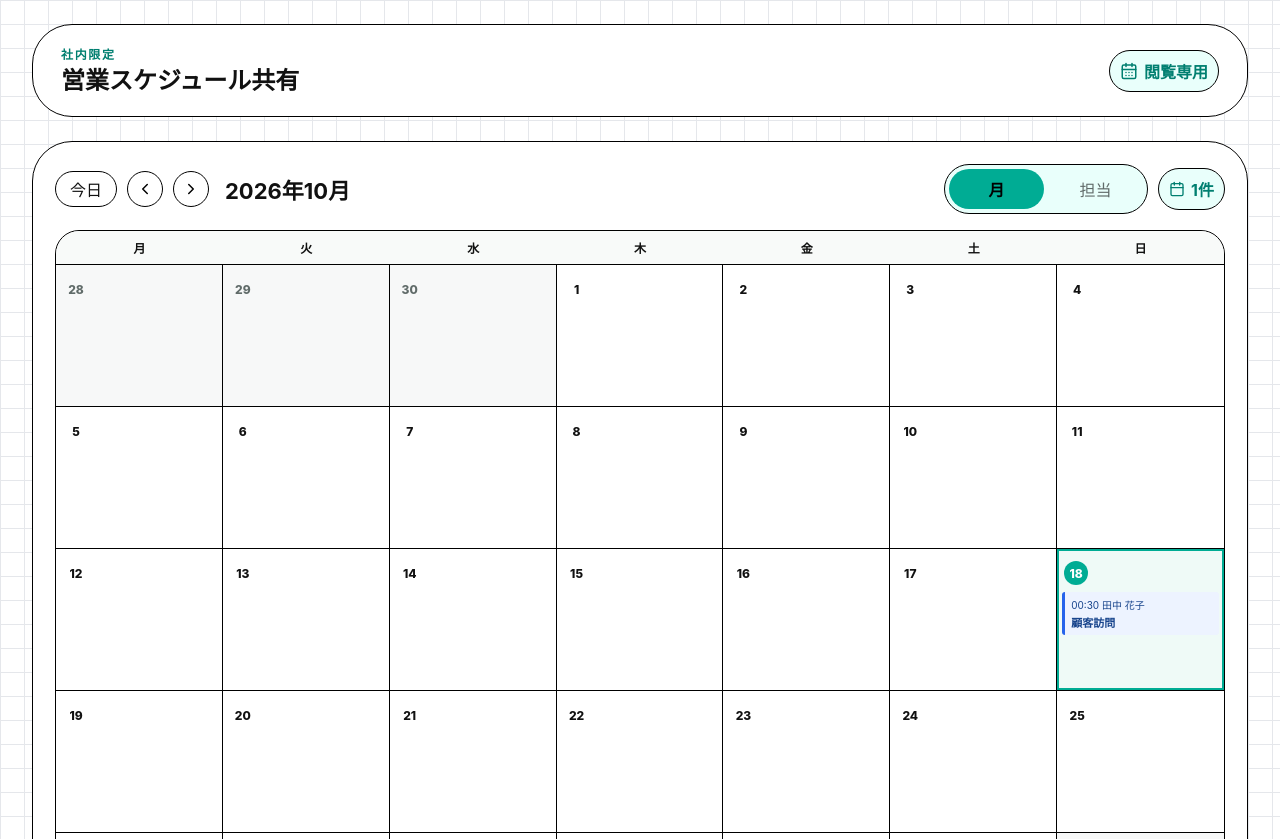
Scenario: ScheduleApp › 月を連続移動してabortされた旧requestが完了しても旧予定を復元しない
Click the button named "次の期間": [191, 189] box [173,171,209,207]
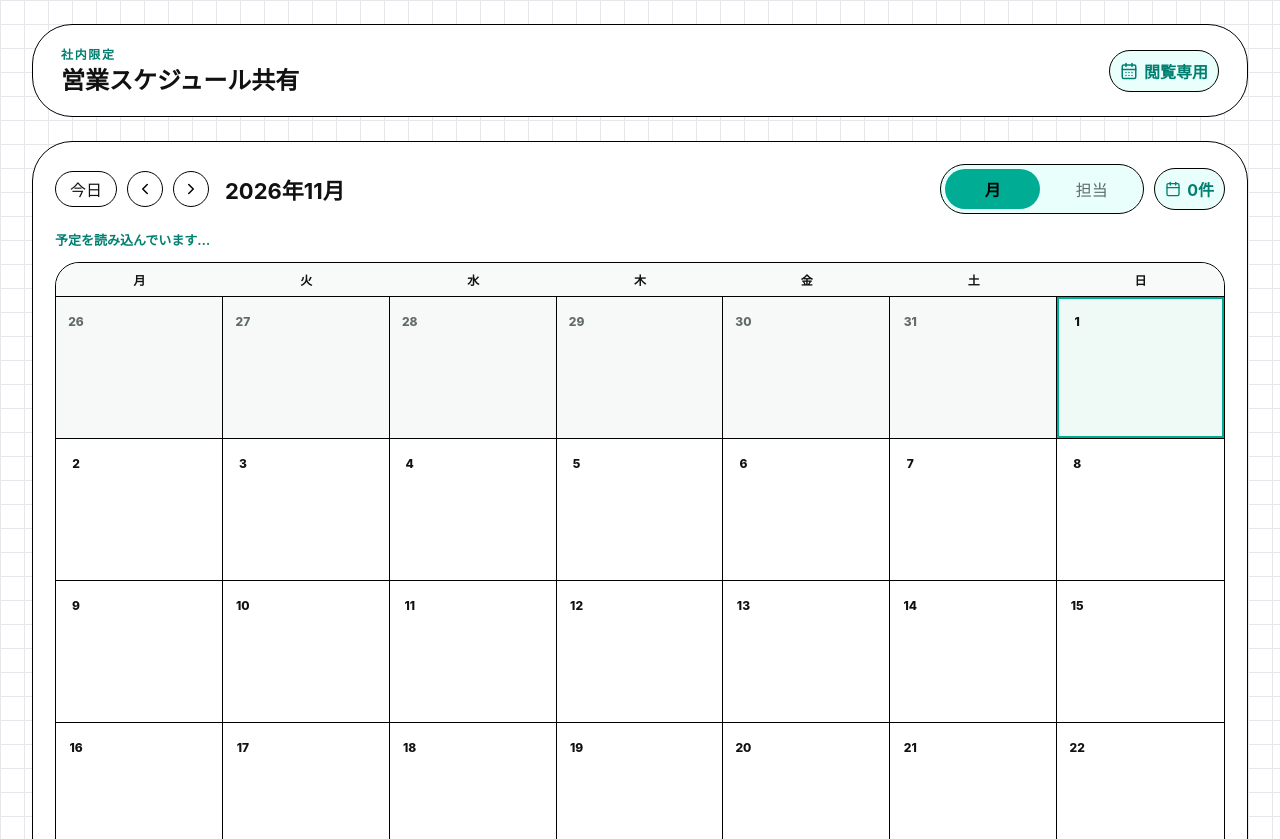
Check: no buttons "顧客訪問" are shown
Click the button named "次の期間": [191, 189] box [173,171,209,207]
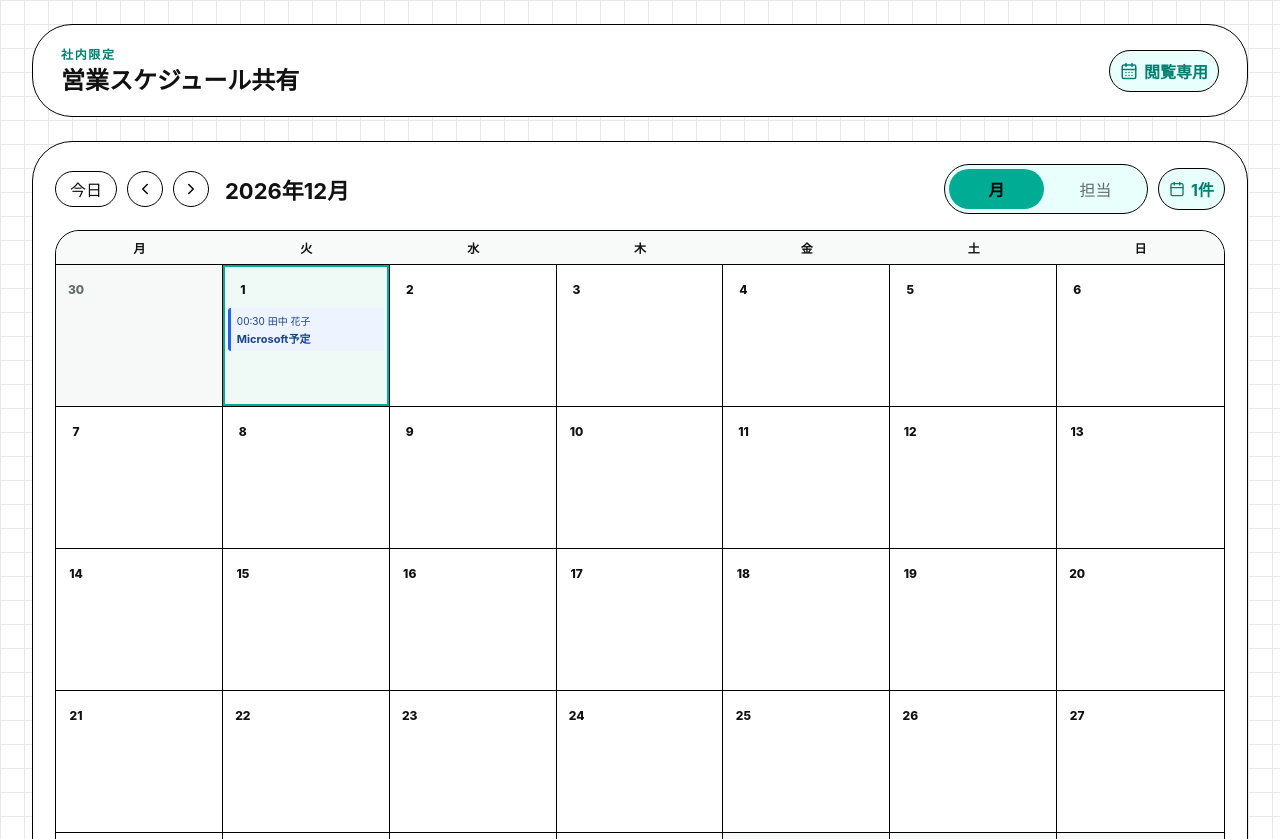
Check: the text "Microsoft予定" is shown, box [237,332,310,346]
